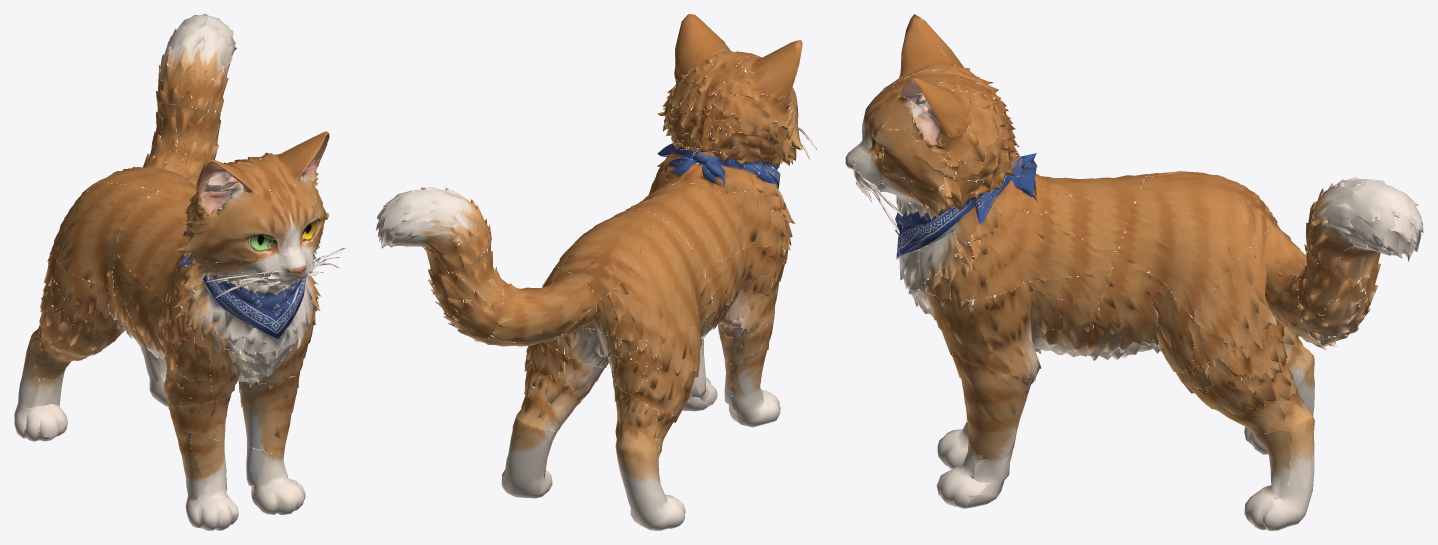
Rendered from cat_25000.glb.
The picture shows the model from 3 angles, left to right: view 1: azimuth 30°, elevation 25°; view 2: azimuth 150°, elevation 25°; view 3: azimuth 270°, elevation 25°; orthographic projection. The views are drawn at different scales.
Parts seen in each view (by area): view 1: tripo_node_d4c6c128-de5c-43f0-8252-b24eece295db.001; view 2: tripo_node_d4c6c128-de5c-43f0-8252-b24eece295db.001; view 3: tripo_node_d4c6c128-de5c-43f0-8252-b24eece295db.001.
Boxes of the visible parts, x1=… form: tripo_node_d4c6c128-de5c-43f0-8252-b24eece295db.001: x1=14, y1=14, x2=345, y2=530; tripo_node_d4c6c128-de5c-43f0-8252-b24eece295db.001: x1=375, y1=14, x2=816, y2=530; tripo_node_d4c6c128-de5c-43f0-8252-b24eece295db.001: x1=845, y1=14, x2=1423, y2=530.
Bounding box in the file's own units: 0.5986 × 0.8361 × 0.9985.
1 material, 1 textured.
